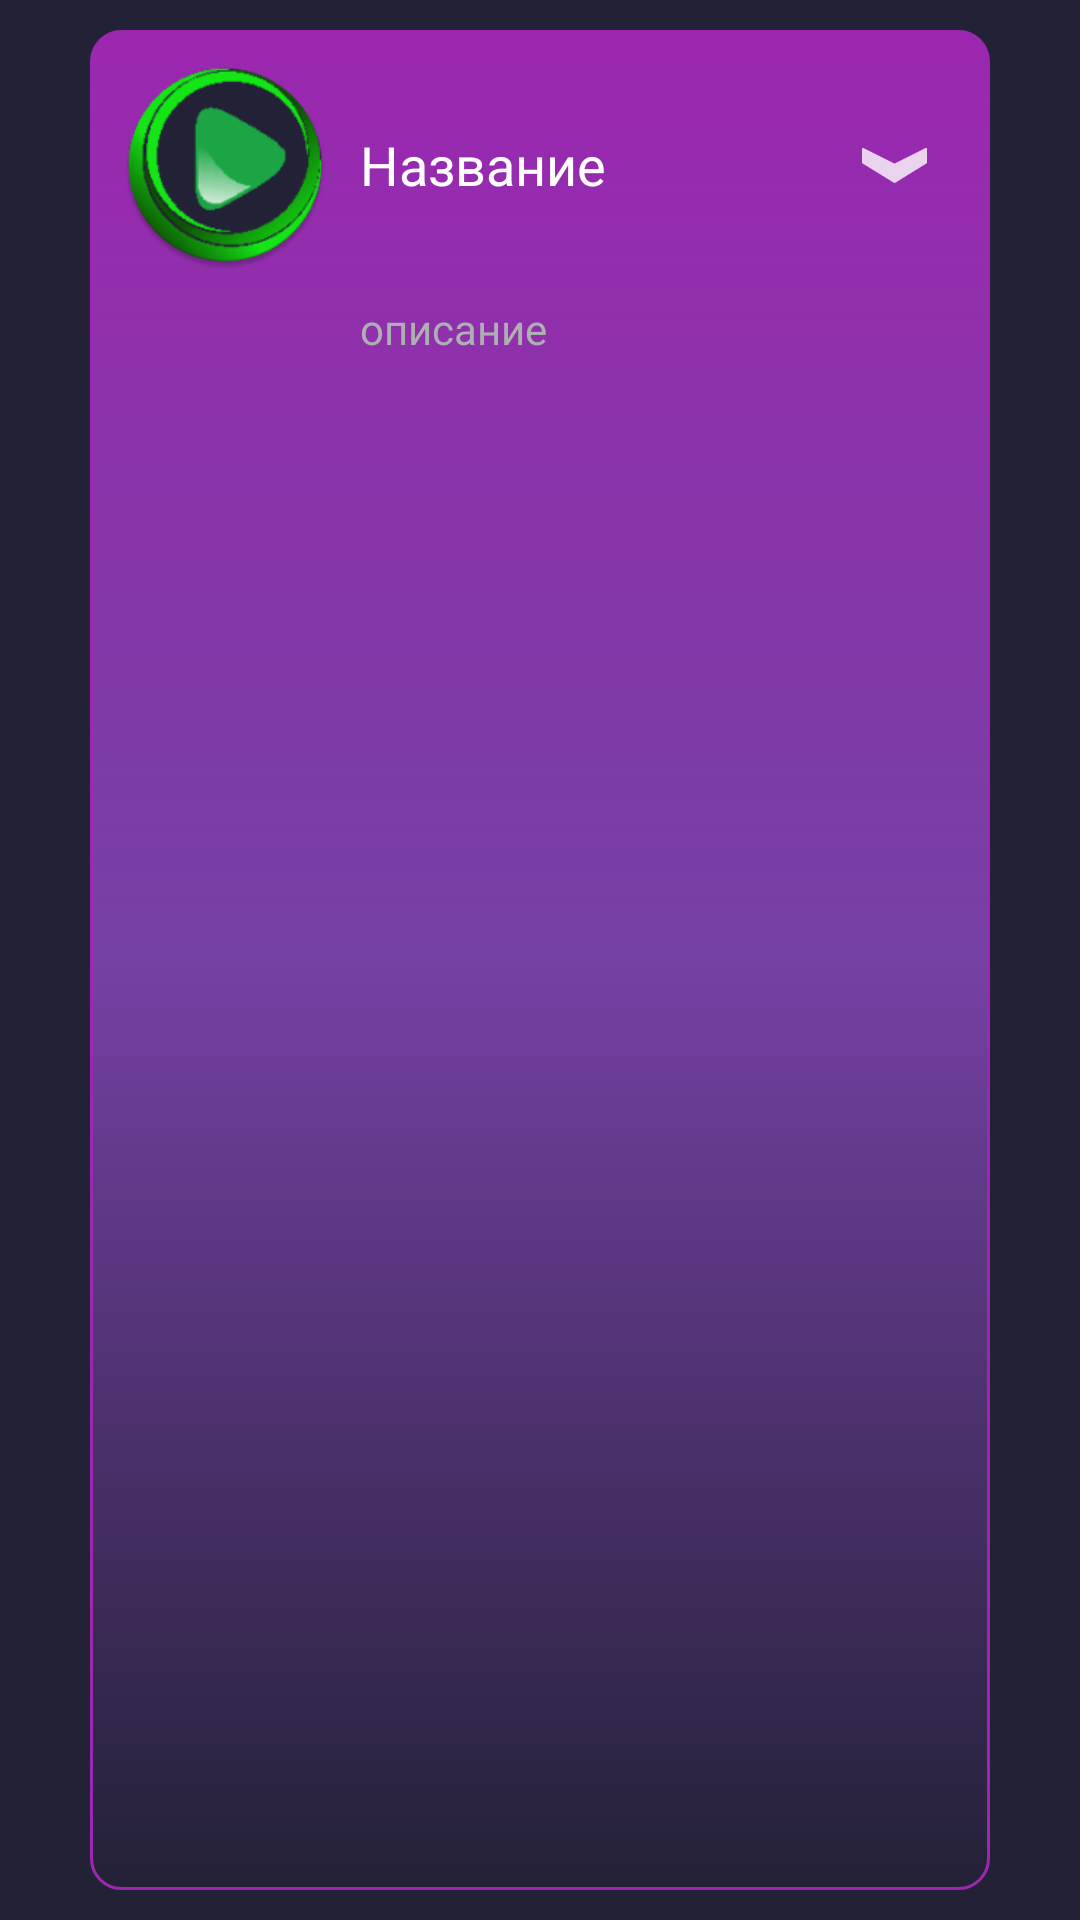

Named icons in this screenshot (1080 × 1920) and their bounding boxes, (x1, y1, x2, y2):
down: (862, 148, 927, 183)
play meditation: (128, 68, 322, 265)
